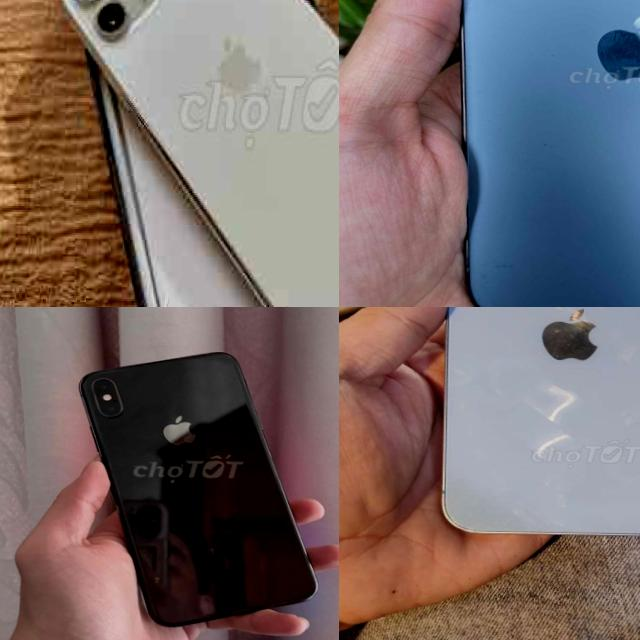gen_11: (53, 0, 339, 307)
gen_12_13: (441, 0, 640, 307)
gen_14: (431, 307, 640, 547)
gen_x_xs: (70, 346, 324, 637)
